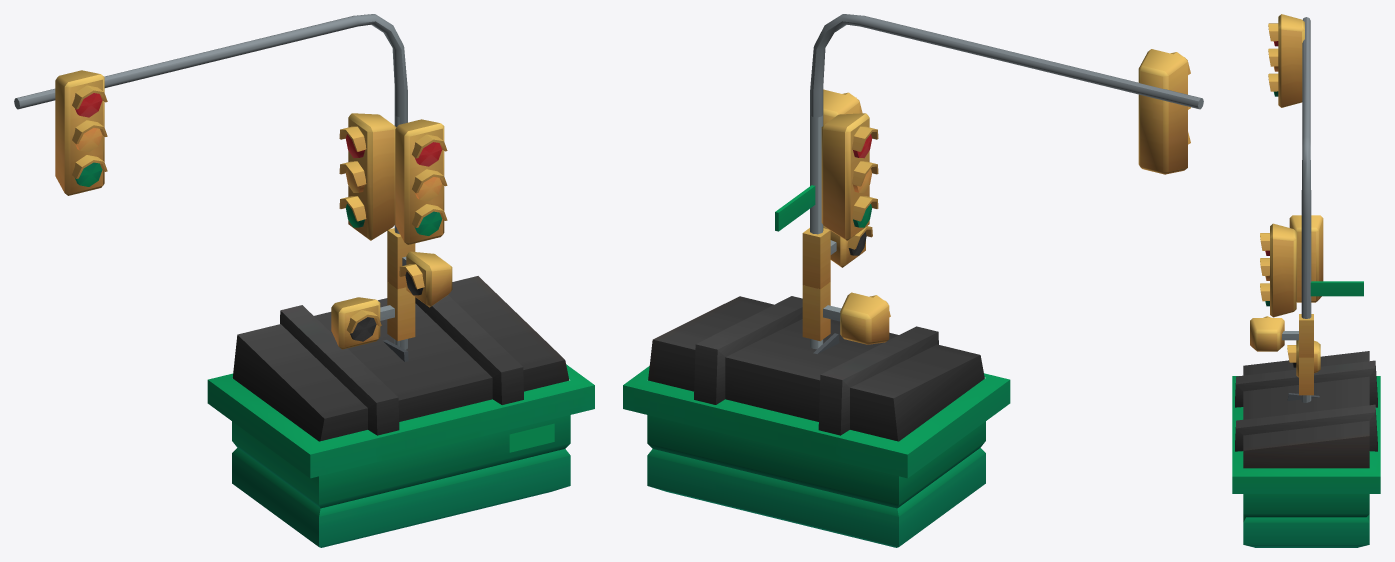
The model's file is street.glb.
3 renders of one model, left to right at view 1: azimuth 30°, elevation 25°; view 2: azimuth 150°, elevation 25°; view 3: azimuth 270°, elevation 25°, orthographic. The views are drawn at different scales.
Parts seen in each view (by area): view 1: dumpster_part0, trafficlight_A_part0, trafficlight_C_part0; view 2: dumpster_part0, trafficlight_C_part0, trafficlight_A_part0; view 3: dumpster_part0, trafficlight_C_part0, trafficlight_A_part0.
Part boxes in pixels (left/top/right/bottom): dumpster_part0: left=207, top=276, right=594, bottom=547; trafficlight_A_part0: left=331, top=113, right=447, bottom=349; trafficlight_C_part0: left=14, top=14, right=452, bottom=361; dumpster_part0: left=623, top=296, right=1010, bottom=547; trafficlight_C_part0: left=775, top=14, right=1203, bottom=353; trafficlight_A_part0: left=802, top=89, right=890, bottom=349; dumpster_part0: left=1232, top=351, right=1380, bottom=547; trafficlight_C_part0: left=1250, top=14, right=1363, bottom=402; trafficlight_A_part0: left=1260, top=215, right=1323, bottom=401.
Size of the model in its own units: 1.05 by 0.9695 by 0.3528.
5 materials, 5 textured.
